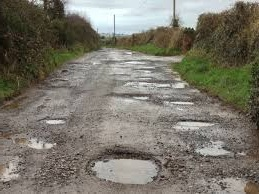pothole: (78, 149, 163, 184), (198, 168, 258, 194), (2, 131, 60, 147), (192, 138, 233, 157), (0, 156, 21, 188), (172, 120, 216, 130), (136, 80, 185, 88), (39, 113, 67, 126), (118, 90, 149, 100), (165, 99, 195, 107), (123, 58, 147, 65), (44, 84, 72, 89), (135, 74, 152, 79), (49, 76, 66, 81)
